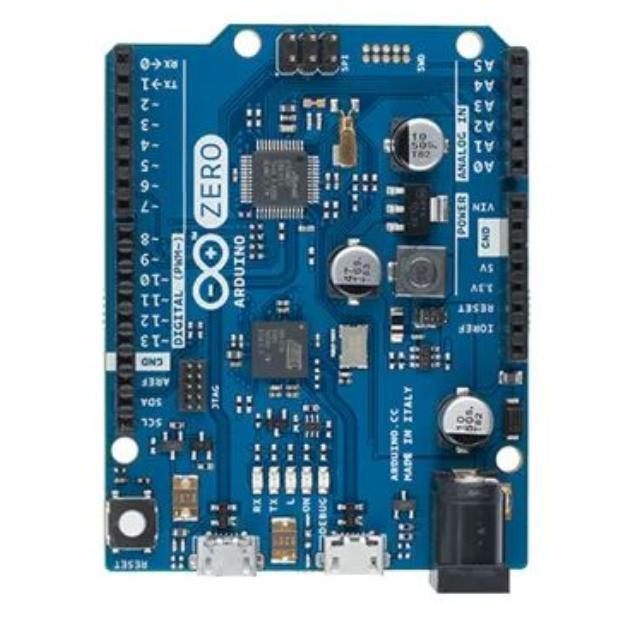Arduino-Zero: (106, 25, 528, 592)
